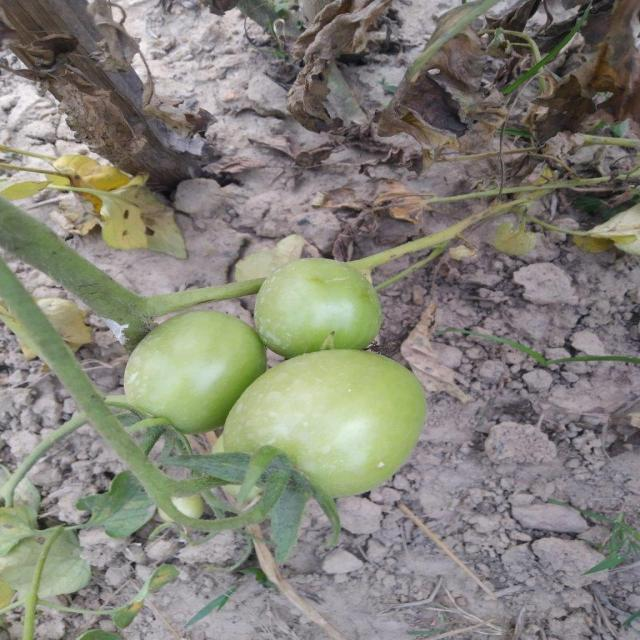Unripe: (224, 350, 426, 499), (117, 309, 264, 439), (252, 257, 382, 360)
